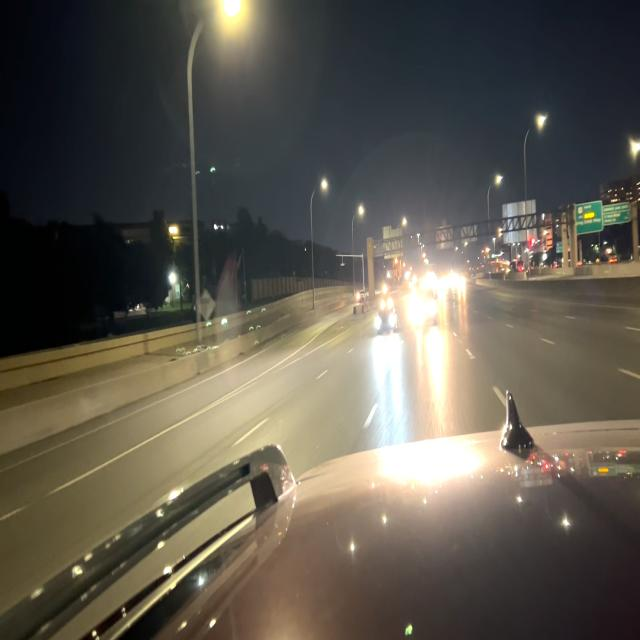back-of-sign: (502, 199, 537, 246), (382, 221, 404, 261), (436, 217, 455, 251), (200, 286, 216, 322), (460, 221, 478, 246)
